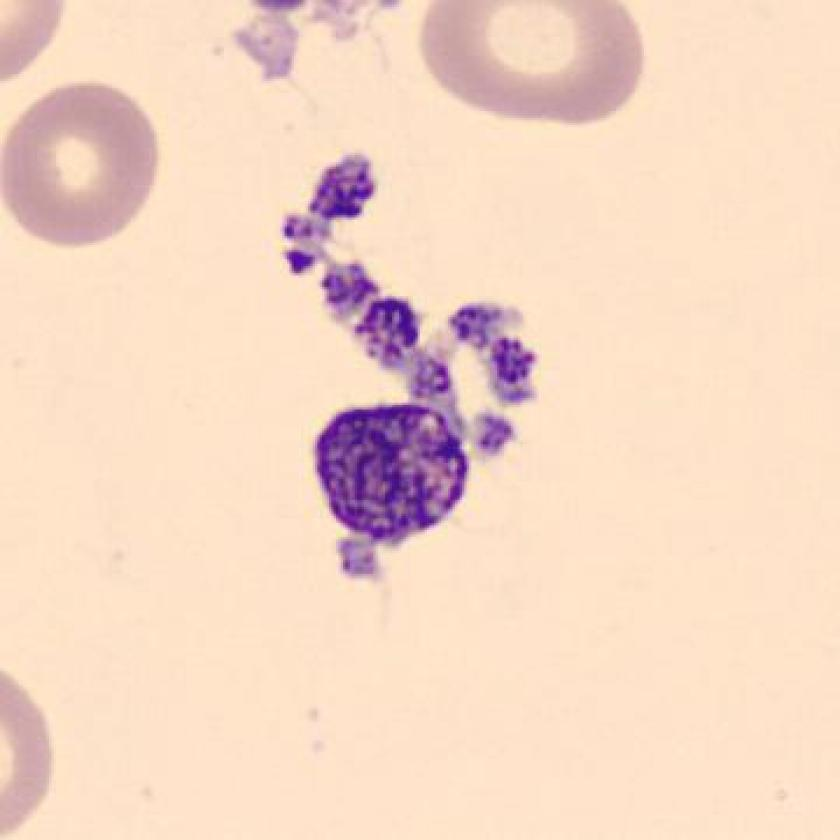platelets: (293, 392, 498, 563)
